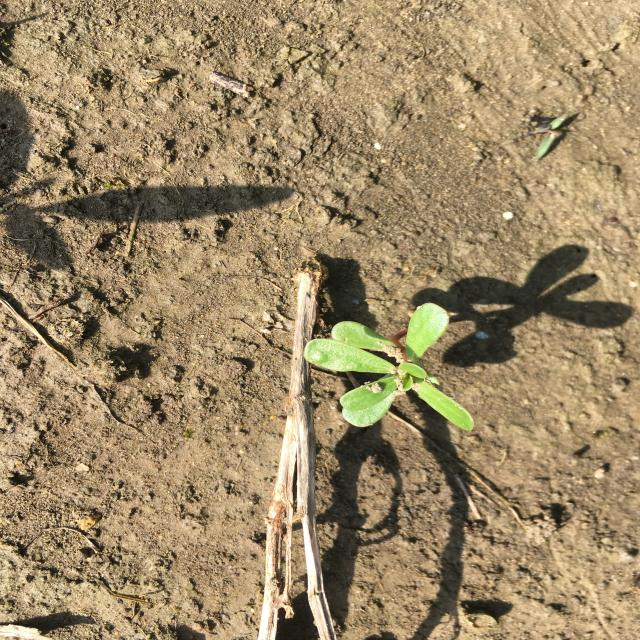Purslane: (303, 302, 477, 434)
